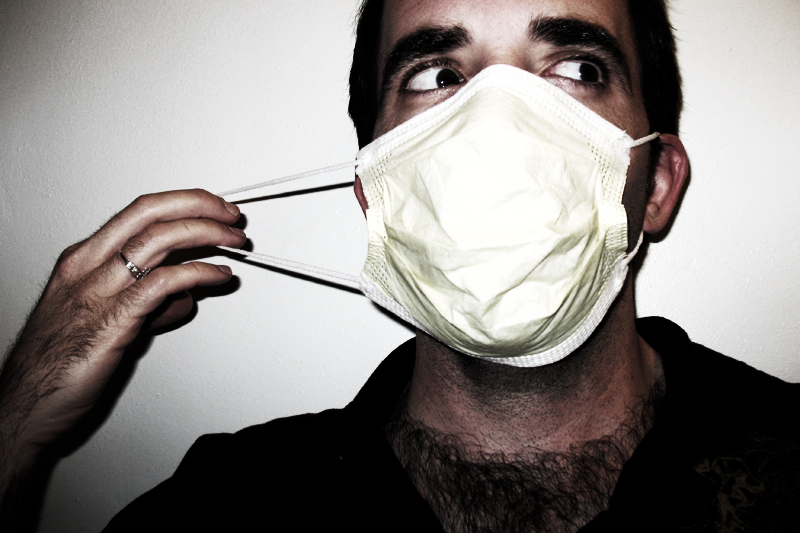mask: (360, 108, 643, 371)
